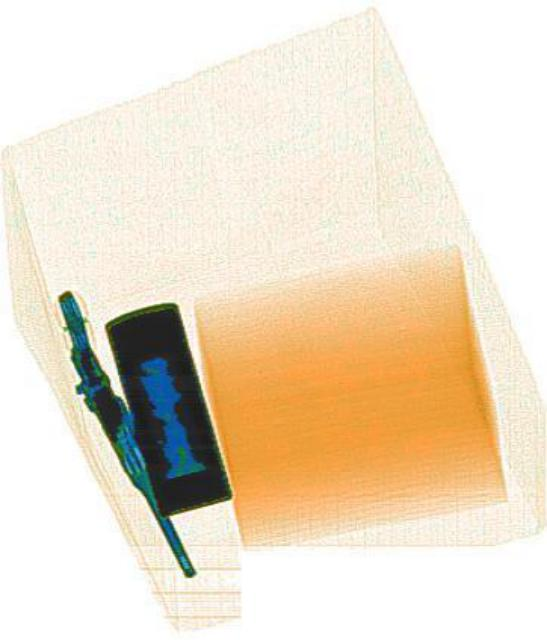Gun: (38, 291, 202, 581)
